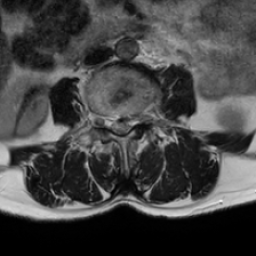CCS_severe_stenosis: (117, 110, 126, 140)
LFS_normal: (135, 107, 143, 131)
LLS_normal: (126, 110, 134, 135)
RFS_normal: (100, 107, 110, 136)
RLS_normal: (109, 110, 117, 136)
